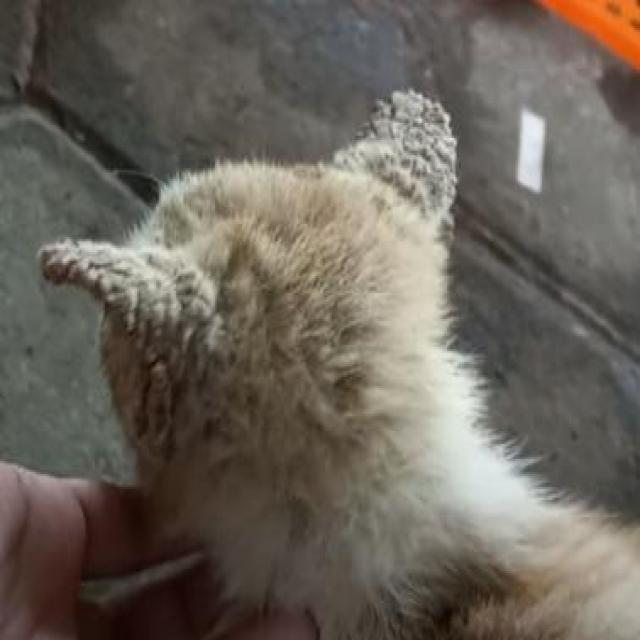ghe: (43, 245, 244, 419), (356, 85, 460, 243)
